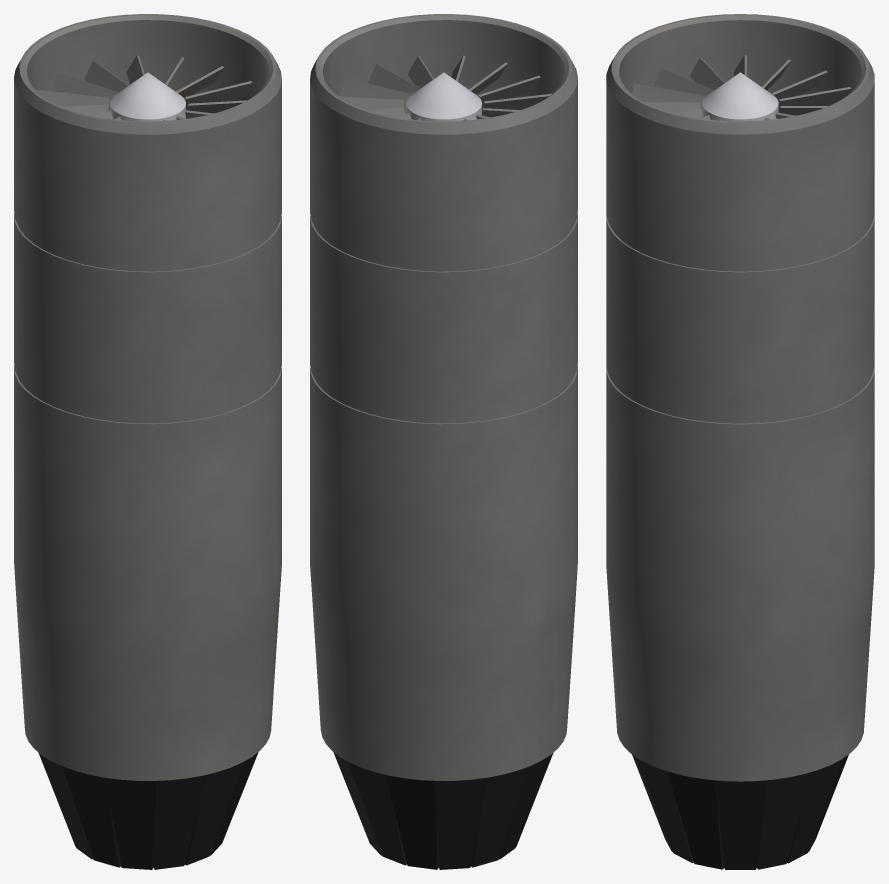
The model's file is ax_aero_28_jeab_turbofan.glb.
The picture shows the model from 3 angles, left to right: view 1: azimuth 30°, elevation 25°; view 2: azimuth 150°, elevation 25°; view 3: azimuth 270°, elevation 25°; orthographic projection.
Visible parts, largest first — view 1: nacelle, nozzle_petals, fan_blades, spinner, rear_frame; view 2: nacelle, nozzle_petals, fan_blades, spinner, rear_frame; view 3: nacelle, nozzle_petals, fan_blades, spinner.
Part boxes in pixels (<box>): nacelle: <box>14,14,281,780</box>; nozzle_petals: <box>38,752,258,869</box>; fan_blades: <box>36,55,251,120</box>; spinner: <box>110,72,185,121</box>; rear_frame: <box>14,396,279,456</box>; nacelle: <box>310,14,577,780</box>; nozzle_petals: <box>333,752,553,869</box>; fan_blades: <box>339,55,551,121</box>; spinner: <box>406,72,481,121</box>; rear_frame: <box>312,396,577,456</box>; nacelle: <box>606,14,874,781</box>; nozzle_petals: <box>632,754,848,869</box>; fan_blades: <box>632,55,850,120</box>; spinner: <box>702,72,778,121</box>.
Size of the model in its own units: 1.25 by 3.96 by 1.25.
Materials: 3 (2 with a texture image).
